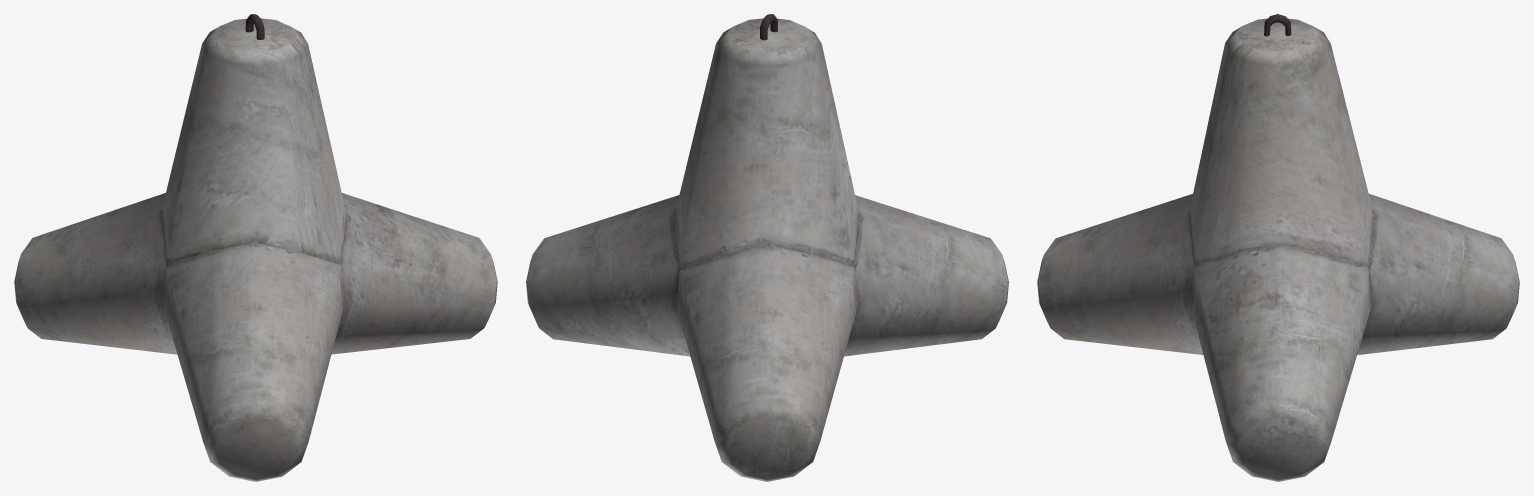
The model's file is Concrete_Tetrapod.fbx.
The picture shows the model from 3 angles, left to right: view 1: azimuth 30°, elevation 25°; view 2: azimuth 150°, elevation 25°; view 3: azimuth 270°, elevation 25°; orthographic projection.
Parts seen in each view (by area): view 1: Concrete_Tetrapod; view 2: Concrete_Tetrapod; view 3: Concrete_Tetrapod.
Boxes of the visible parts, left/top/right/bottom form: Concrete_Tetrapod: left=14, top=14, right=497, bottom=481; Concrete_Tetrapod: left=526, top=14, right=1008, bottom=481; Concrete_Tetrapod: left=1037, top=14, right=1519, bottom=481.
Bounding box in the file's own units: 311 × 294 × 348.
